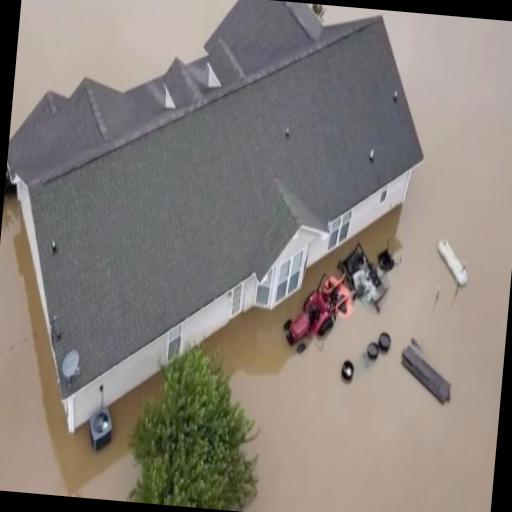flood: (203, 5, 512, 512), (0, 196, 161, 502), (10, 0, 235, 135)
house: (0, 0, 435, 468)
